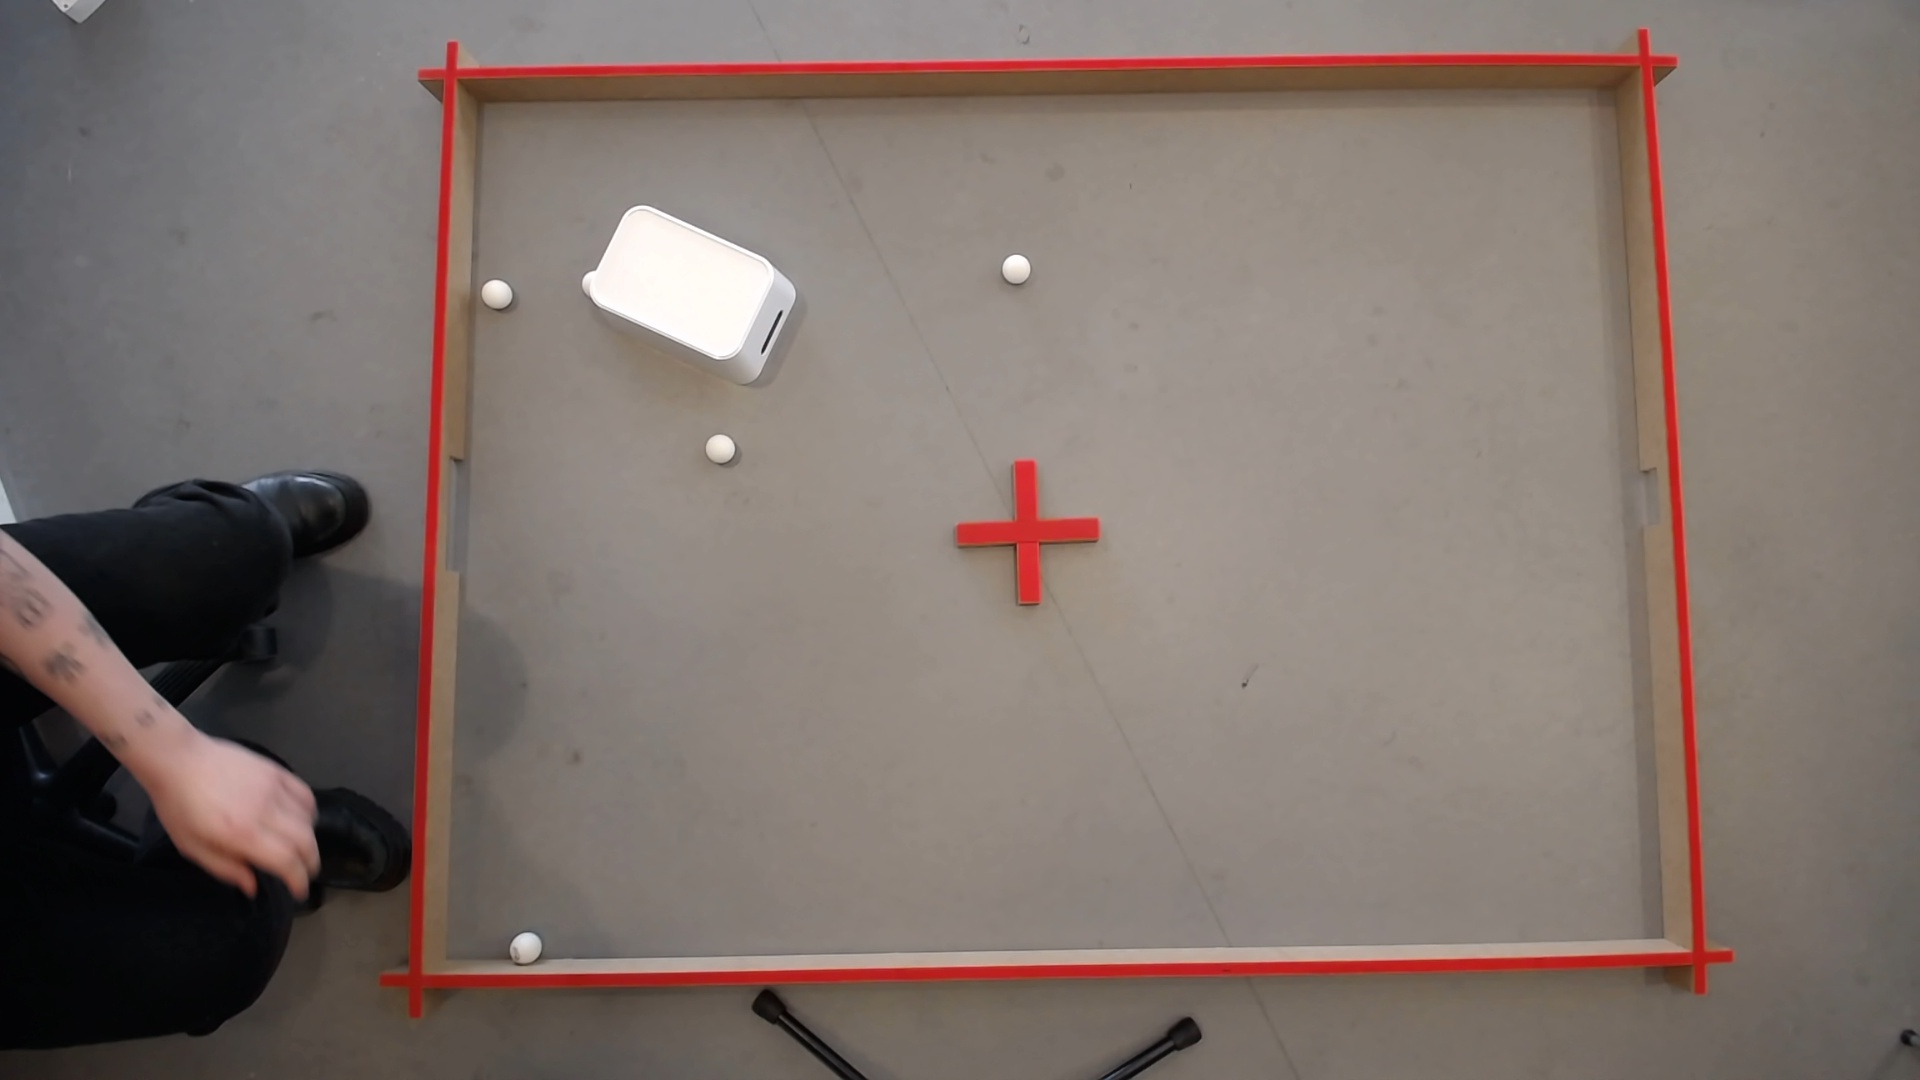balls: (575, 190, 804, 377), (186, 736, 268, 812), (704, 429, 736, 462), (480, 274, 512, 303), (1002, 253, 1030, 276)
car: (510, 927, 541, 955)
